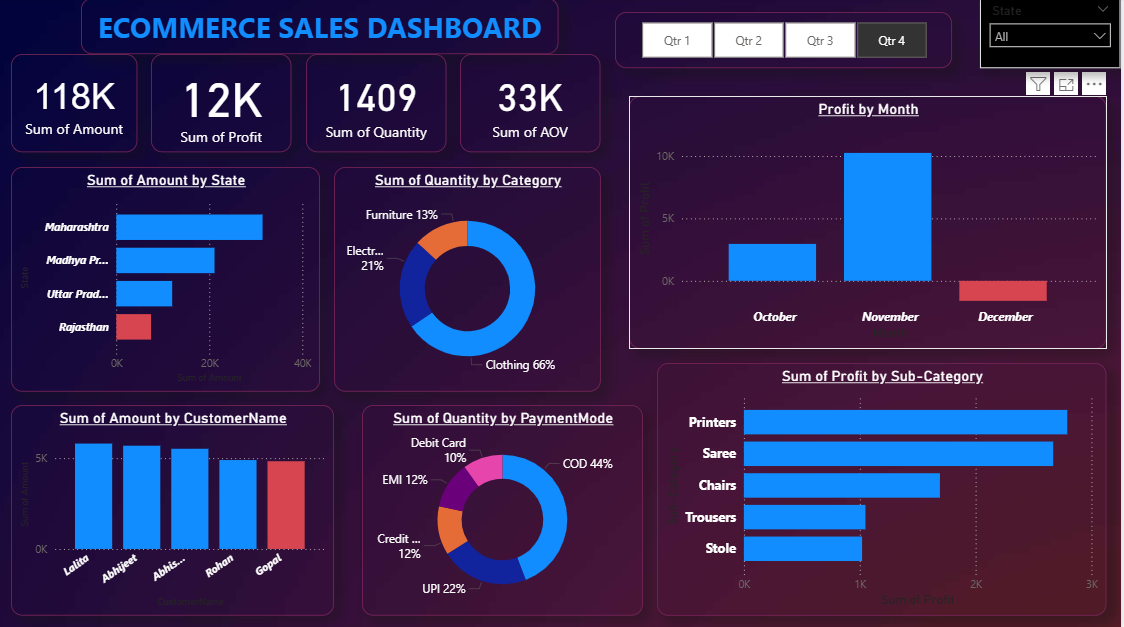

The page's visual inventory and layout, read from the dashboard file:
{"tool":"powerbi","page":{"name":"Page 1","canvas":[1280,720],"ordinal":0},"visuals":[{"type":"textbox","box":[96,0,544,64],"z":0},{"type":"columnChart","title":" Profit by Month","fields":{"Y":["Sum(Details.Profit)"],"Category":["Orders.Order Date.Variation.Date Hierarchy.Month"]},"box":[720,112,544,288],"z":1000},{"type":"barChart","fields":{"Category":["Details.Sub-Category"],"Y":["Sum(Details.Profit)"]},"box":[752,416,512,288],"z":2000},{"type":"donutChart","fields":{"Category":["Details.Category"],"Y":["Sum(Details.Quantity)"]},"box":[384,192,304,256],"z":3000},{"type":"donutChart","fields":{"Y":["Sum(Details.Quantity)"],"Category":["Details.PaymentMode"]},"box":[416,464,320,240],"z":4000},{"type":"card","fields":{"Values":["Sum(Details.Amount)"]},"box":[16,64,144,112],"z":5000},{"type":"card","fields":{"Values":["Sum(Details.Quantity)"]},"box":[352,64,160,112],"z":6000},{"type":"card","fields":{"Values":["Sum(Details.Profit)"]},"box":[176,64,160,112],"z":7000},{"type":"card","fields":{"Values":["Sum(Details.AOV)"]},"box":[528,64,160,112],"z":8000},{"type":"barChart","fields":{"Category":["Orders.State"],"Y":["Sum(Details.Amount)"]},"box":[16,192,352,256],"z":9000},{"type":"columnChart","fields":{"Category":["Orders.CustomerName"],"Y":["Sum(Details.Amount)"]},"box":[16,464,368,240],"z":10000},{"type":"slicer","fields":{"Values":["Orders.Order Date.Variation.Date Hierarchy.Quarter"]},"box":[704,16,384,64],"z":11000},{"type":"slicer","fields":{"Values":["Orders.State"]},"box":[1120,0,160,80],"z":12000}]}

Visuals, with their boxes in screenshot pixels (x1, y1, x2, y2), scaled from the page's 1280x720 canvas onto the 1124x627 screenshot:
textbox: <bbox>84, 0, 562, 56</bbox>
" Profit by Month" columnChart: <bbox>632, 98, 1110, 348</bbox>
barChart - Details.Sub-Category x Sum(Details.Profit): <bbox>660, 362, 1110, 613</bbox>
donutChart - Details.Category x Sum(Details.Quantity): <bbox>337, 167, 604, 390</bbox>
donutChart - Sum(Details.Quantity) x Details.PaymentMode: <bbox>365, 404, 646, 613</bbox>
card - Sum(Details.Amount): <bbox>14, 56, 140, 153</bbox>
card - Sum(Details.Quantity): <bbox>309, 56, 450, 153</bbox>
card - Sum(Details.Profit): <bbox>155, 56, 295, 153</bbox>
card - Sum(Details.AOV): <bbox>464, 56, 604, 153</bbox>
barChart - Orders.State x Sum(Details.Amount): <bbox>14, 167, 323, 390</bbox>
columnChart - Orders.CustomerName x Sum(Details.Amount): <bbox>14, 404, 337, 613</bbox>
slicer - Orders.Order Date.Variation.Date Hierarchy.Quarter: <bbox>618, 14, 955, 70</bbox>
slicer - Orders.State: <bbox>984, 0, 1123, 70</bbox>
